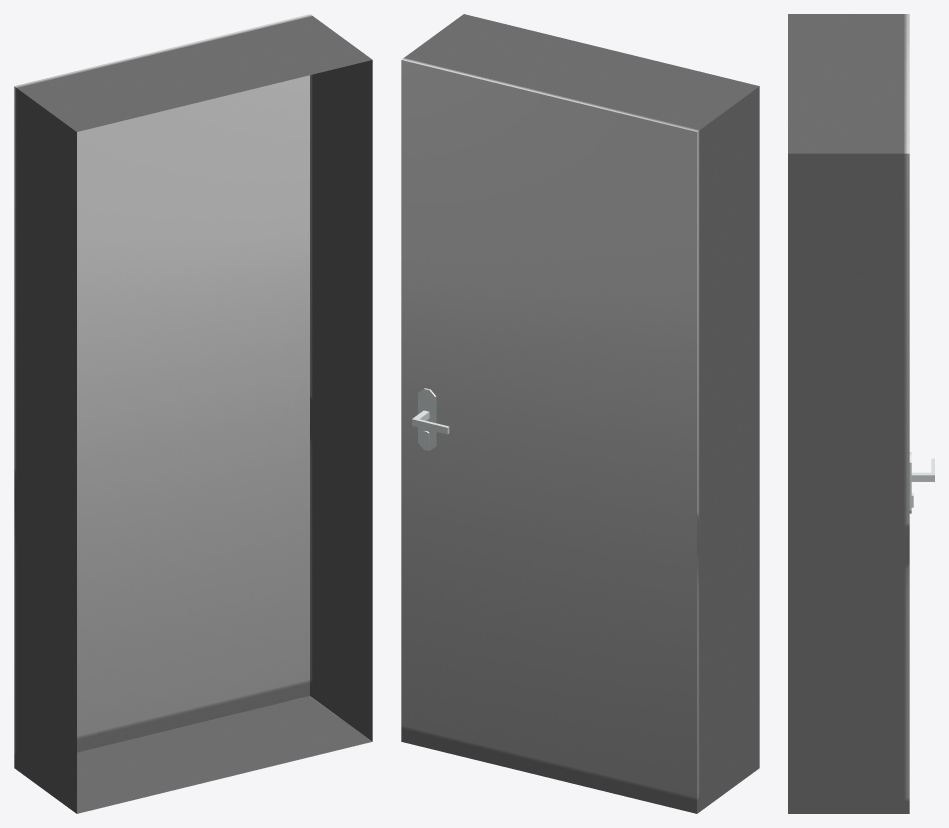
The model's file is corid_dsp.fbx.
The picture shows the model from 3 angles, left to right: view 1: azimuth 30°, elevation 25°; view 2: azimuth 150°, elevation 25°; view 3: azimuth 270°, elevation 25°; orthographic projection. The views are drawn at different scales.
Visible parts, largest first — view 1: corid_dsp; view 2: corid_dsp; view 3: corid_dsp.
Boxes of the visible parts, box(x1,y1,x2,y2) form: corid_dsp: box(14, 14, 372, 813); corid_dsp: box(401, 14, 759, 813); corid_dsp: box(788, 14, 934, 813).
Bounding box in the file's own units: 0.914 × 2.01 × 0.4055.
